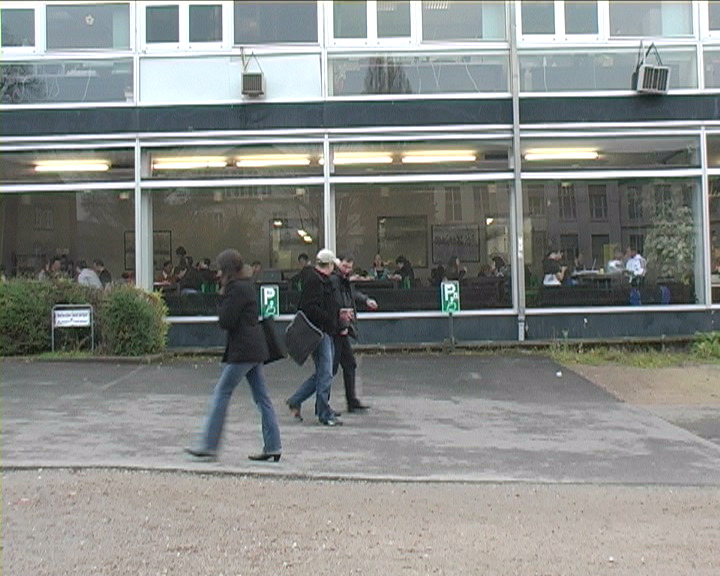deflection: (294, 247, 341, 335)
